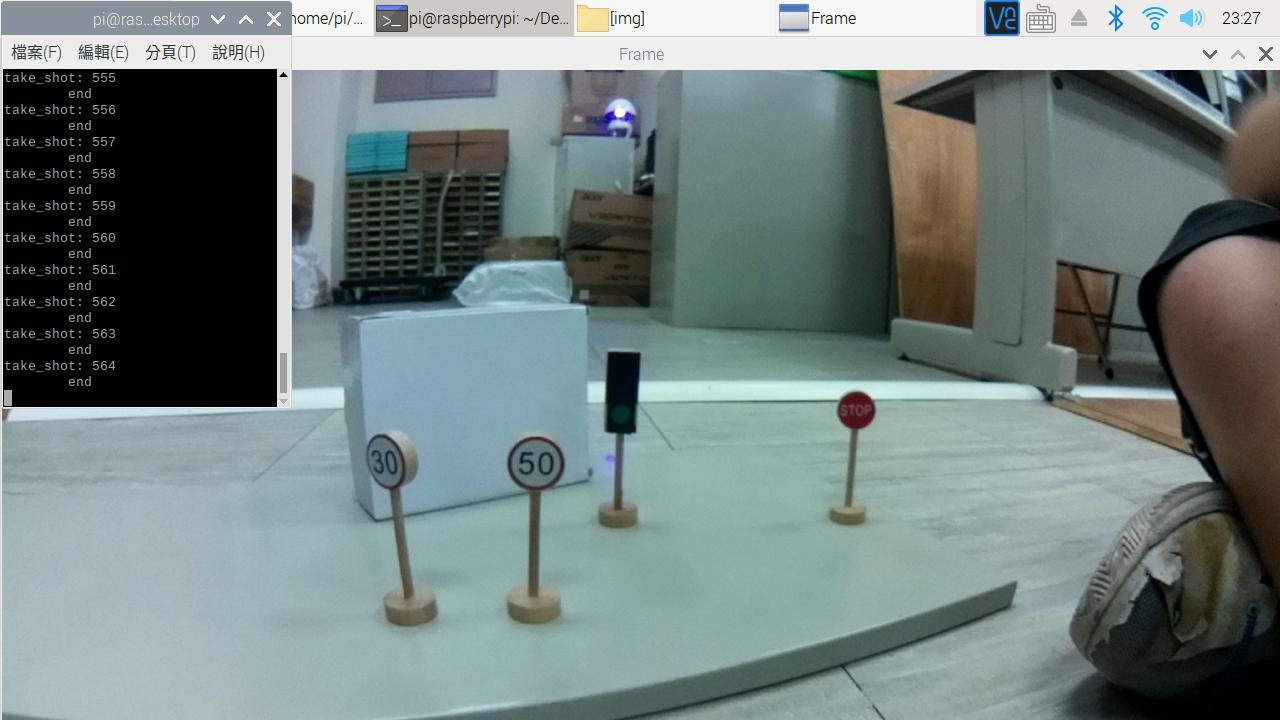Green: (596, 347, 651, 443)
Speed30: (351, 426, 425, 501)
Speed50: (494, 426, 577, 501)
Stop: (827, 387, 883, 447)
